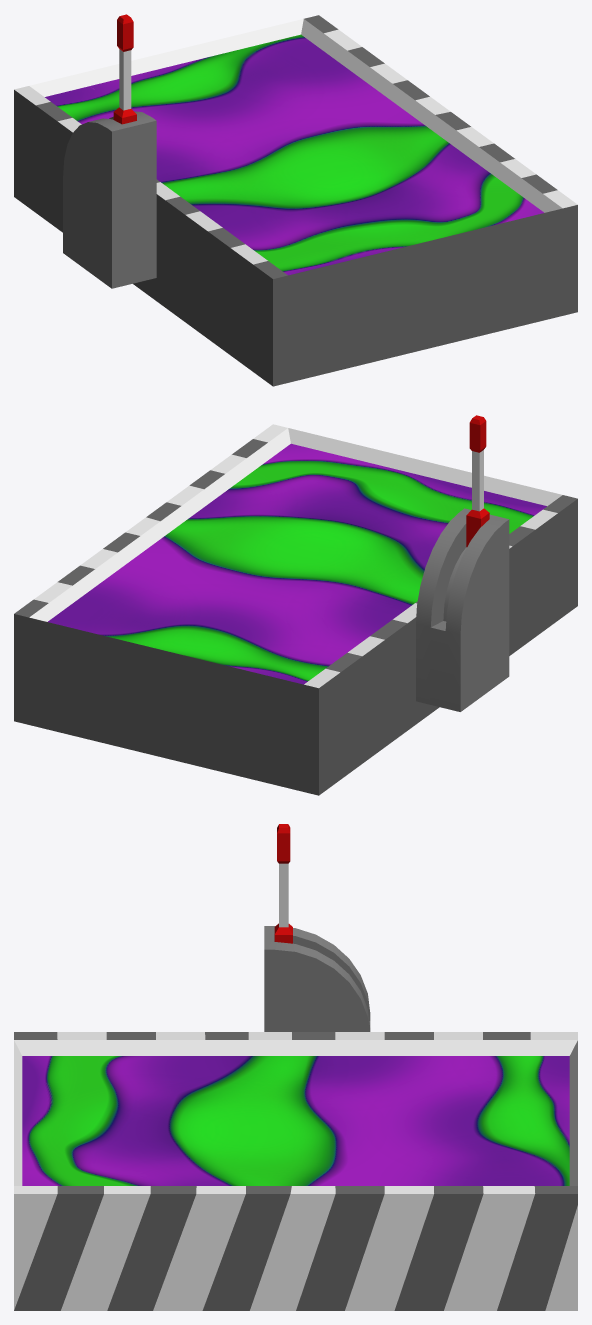
File: pool_lever_colourchange.fbx
3 renders of one model, top to bottom at view 1: azimuth 30°, elevation 25°; view 2: azimuth 150°, elevation 25°; view 3: azimuth 270°, elevation 25°, orthographic. The views are drawn at different scales.
Visible parts, largest first — view 1: colour_stand green.purple.L, colour_stand green.purple.002, pipelever_stand.001, pipe_lever.001; view 2: colour_stand green.purple.L, colour_stand green.purple.002, pipelever_stand.001, pipe_lever.001; view 3: colour_stand green.purple.L, colour_stand green.purple.002, pipelever_stand.001, pipe_lever.001.
Boxes of the visible parts, box(x1,y1,x2,y2) form: colour_stand green.purple.L: box(14, 15, 577, 386); colour_stand green.purple.002: box(45, 34, 544, 275); pipelever_stand.001: box(63, 111, 156, 288); pipe_lever.001: box(113, 14, 136, 124); colour_stand green.purple.L: box(14, 424, 577, 795); colour_stand green.purple.002: box(48, 443, 546, 684); pipelever_stand.001: box(416, 508, 509, 711); pipe_lever.001: box(466, 415, 489, 547); colour_stand green.purple.L: box(14, 1032, 577, 1310); colour_stand green.purple.002: box(22, 1056, 569, 1185); pipelever_stand.001: box(264, 926, 370, 1031); pipe_lever.001: box(274, 824, 292, 943).
Bounding box in the file's own units: 170 × 132 × 218.
